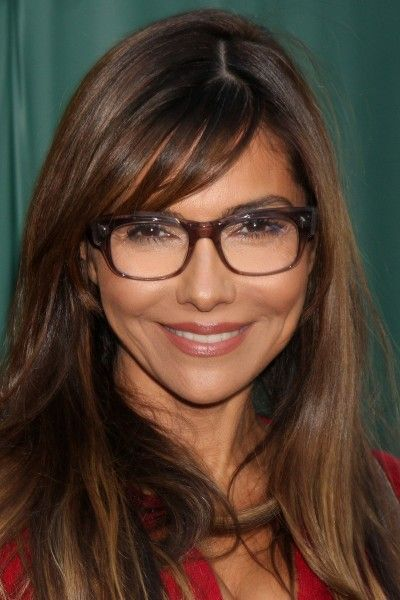llen: (219, 217, 301, 273)
rlen: (109, 222, 191, 278)
